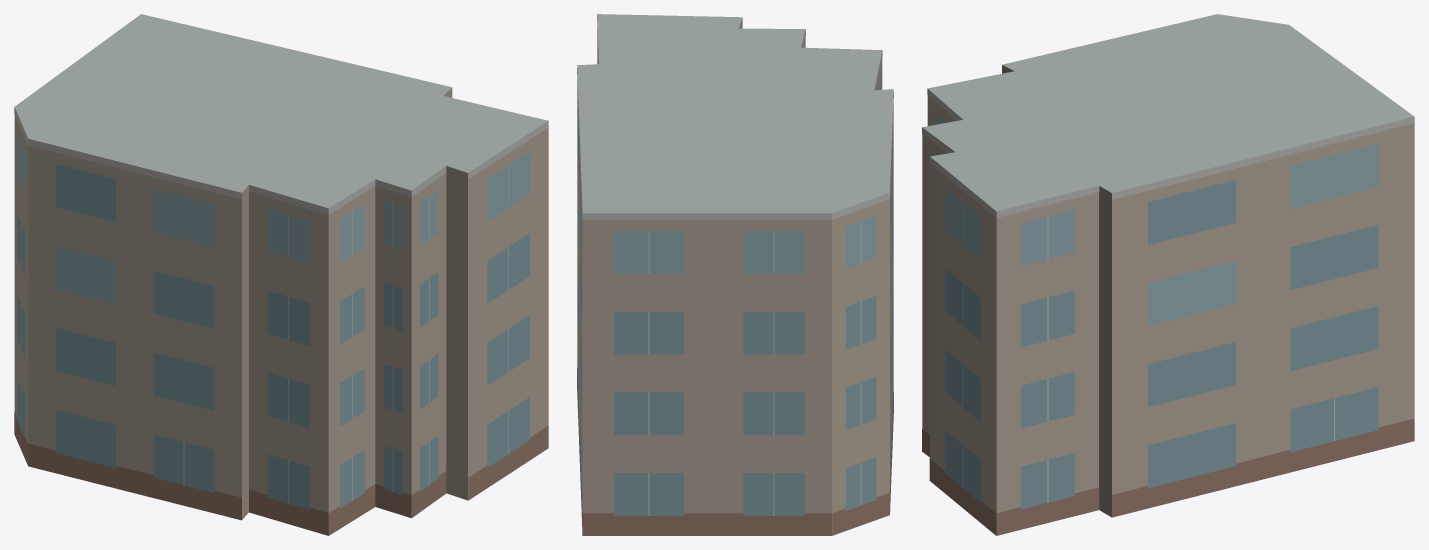
The model's file is survey-upis-32577223.glb.
3 renders of one model, left to right at view 1: azimuth 30°, elevation 25°; view 2: azimuth 150°, elevation 25°; view 3: azimuth 270°, elevation 25°, orthographic.
Parts seen in each view (by area): view 1: survey-upis-32577223.tmp; view 2: survey-upis-32577223.tmp; view 3: survey-upis-32577223.tmp.
Boxes of the visible parts, <box> form: survey-upis-32577223.tmp: <box>14,14,548,535</box>; survey-upis-32577223.tmp: <box>577,14,893,535</box>; survey-upis-32577223.tmp: <box>922,14,1414,535</box>.
Bounding box in the file's own units: 15.68 × 12 × 16.52.
